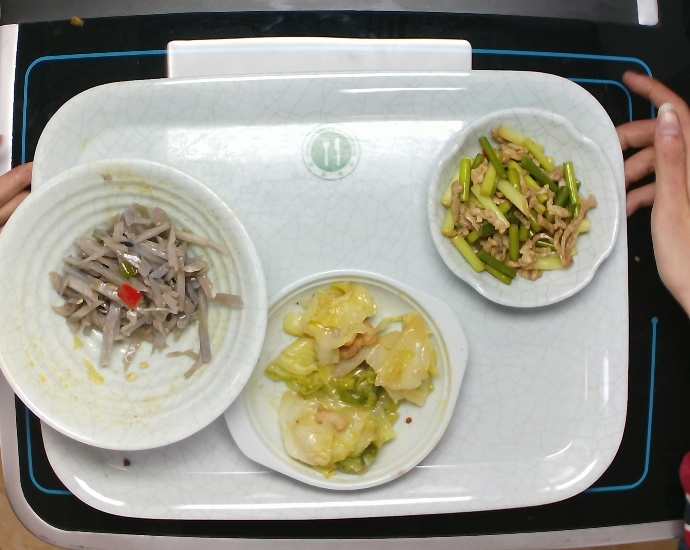JYsf-Ao_Yuan_Wan: (420, 103, 631, 317)
JYsf-Shuang_Er_Pan: (221, 265, 472, 498)
JYsf-Xiao_Tang_Wan: (1, 152, 268, 454)
